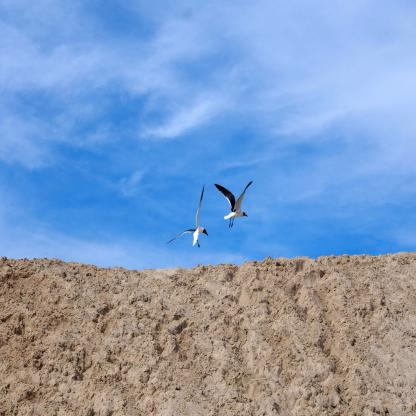bird: (167, 184, 208, 248), (214, 180, 253, 228)
